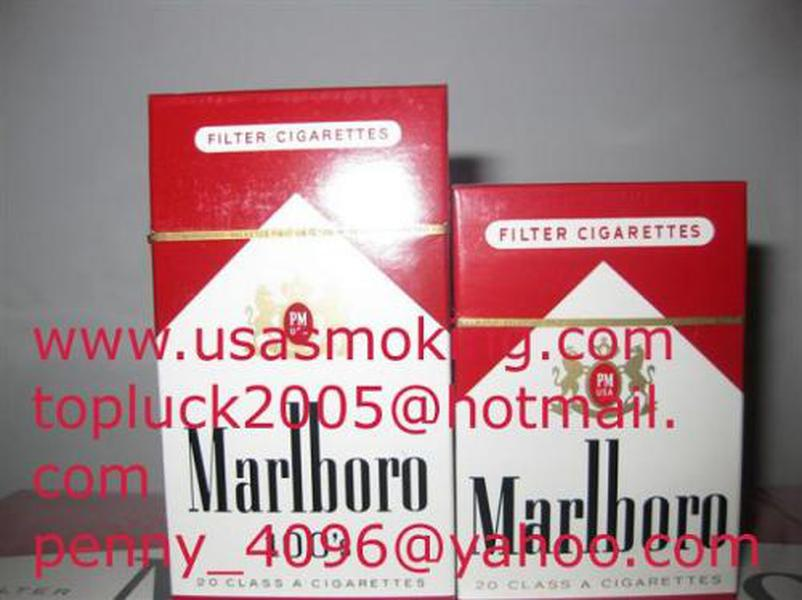marlboro_red: (162, 93, 453, 594), (458, 186, 743, 597)
